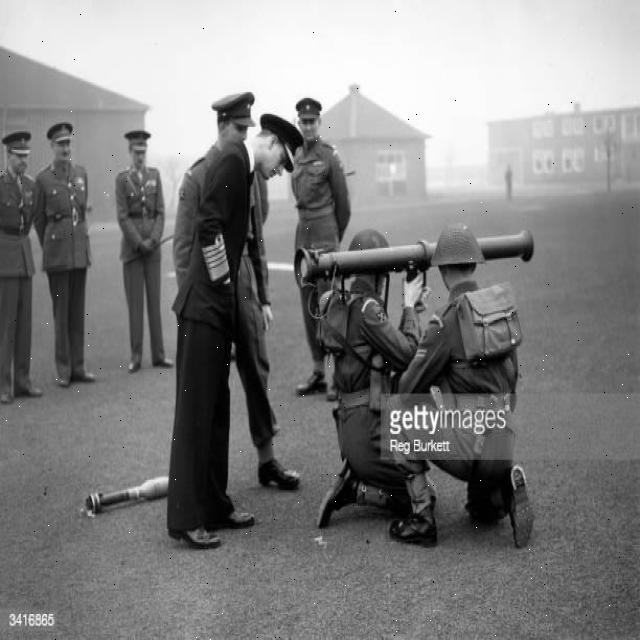bazooka: (293, 224, 540, 296)
